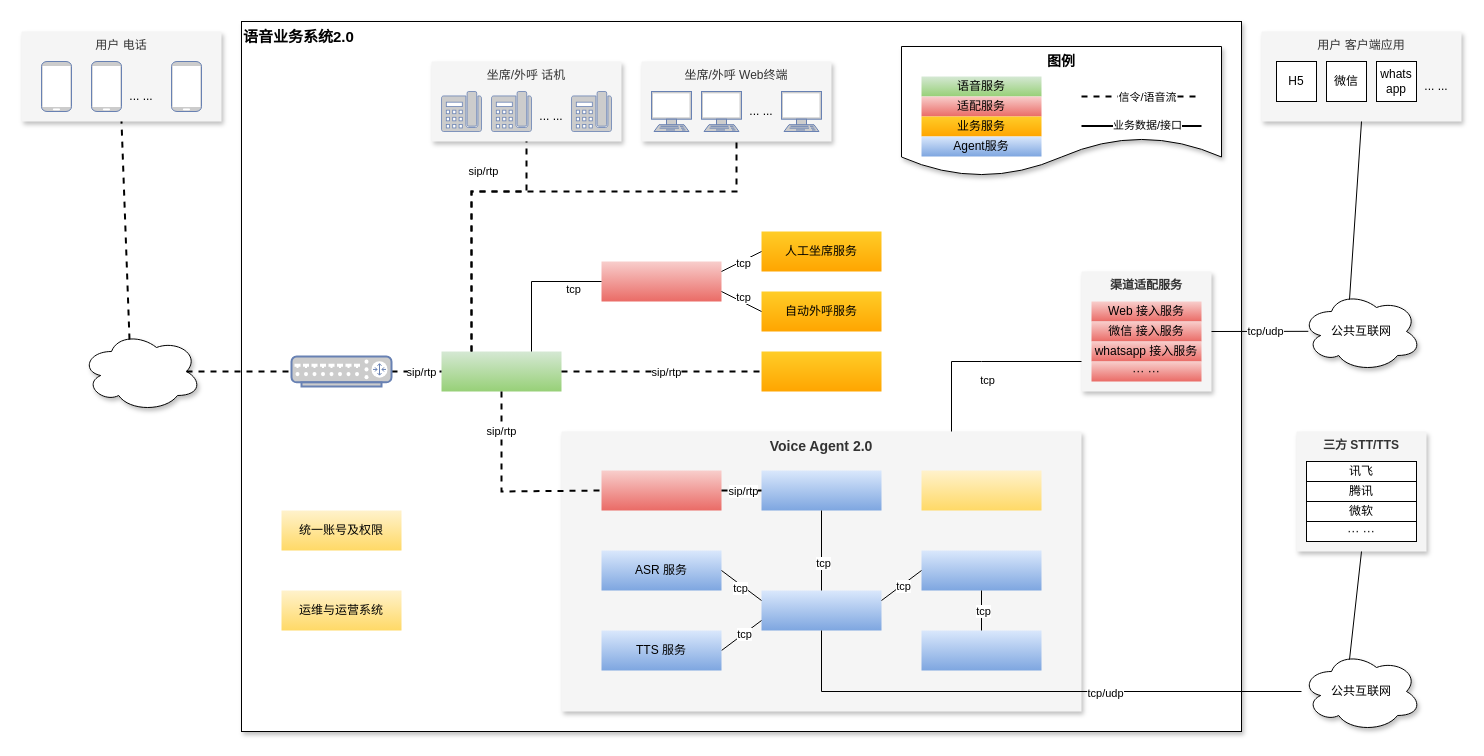
Some shapes in this 1484 by 756 pixel diagram are drawn without their labels. The shapes that lost their labels are listed below. From the top down, each one's centre as x and y in pixels, then its label:
point (661, 281): VoiceConfig
point (142, 372): 公共电话网
point (341, 371): 语音网关设备
point (501, 371): FreeSWITCH
point (821, 371): 机器人外呼服务
point (661, 490): SIP代理服务
point (821, 490): Voice Agent 服务 （可接入多Agent）
point (981, 490): Agent运营配置服务
point (981, 570): Text Agent
point (821, 610): Voice Agent
point (981, 650): LLM 服务
